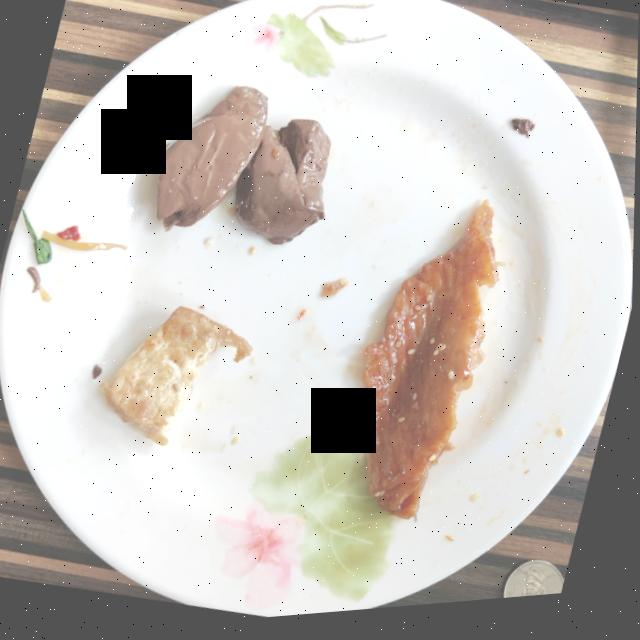Kabayaki sea bream fillet: (363, 208, 499, 526)
coin: (505, 569, 566, 607)
pig blood curd: (156, 90, 330, 249)
